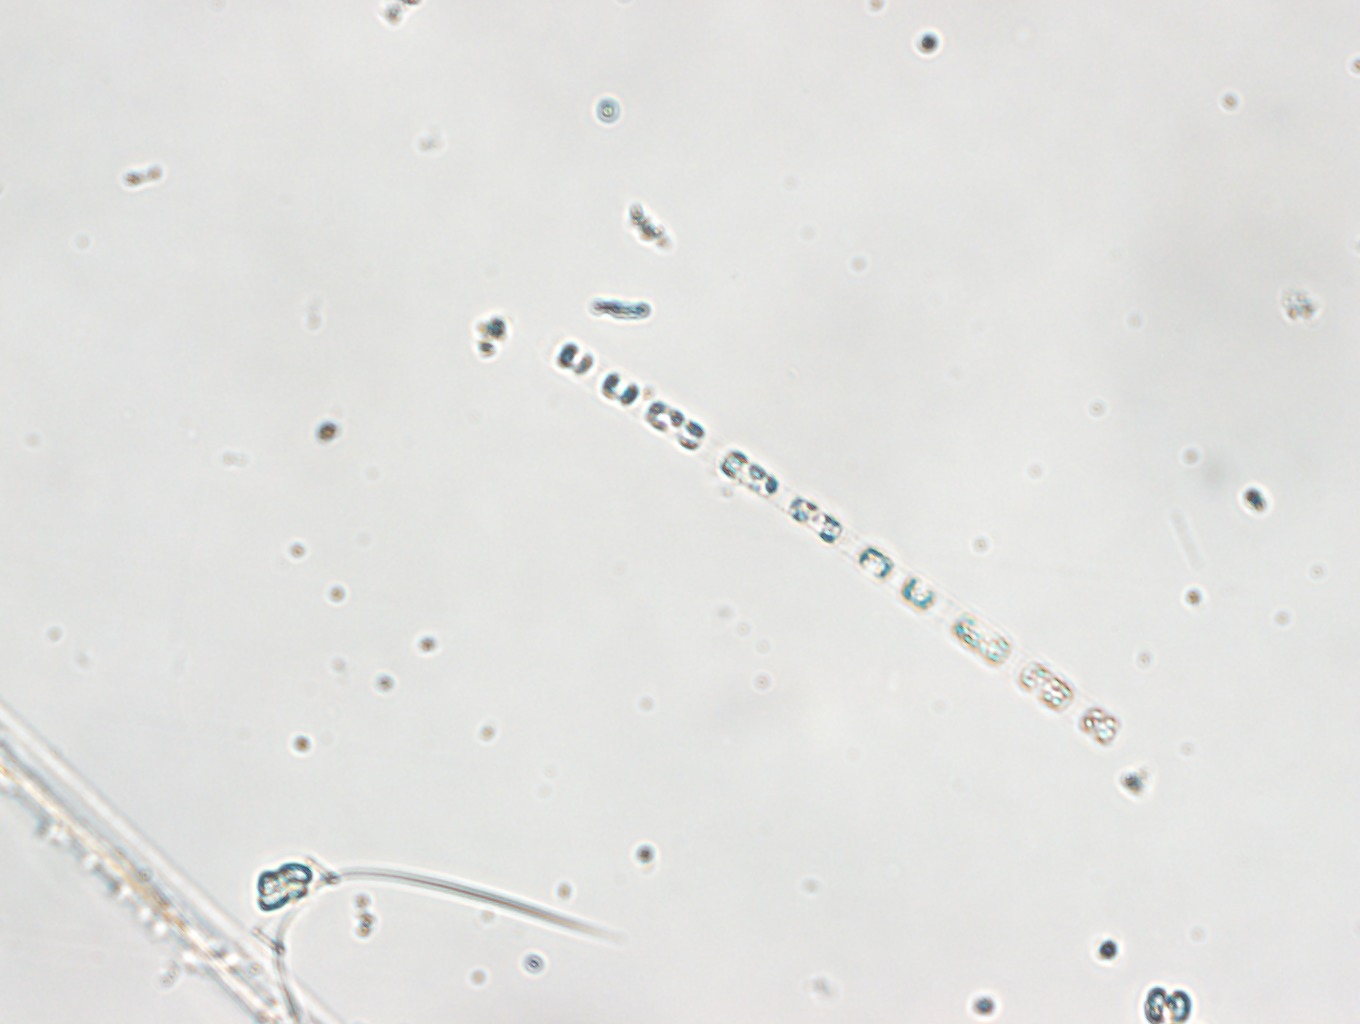skeletonema: (548, 338, 1131, 759)
